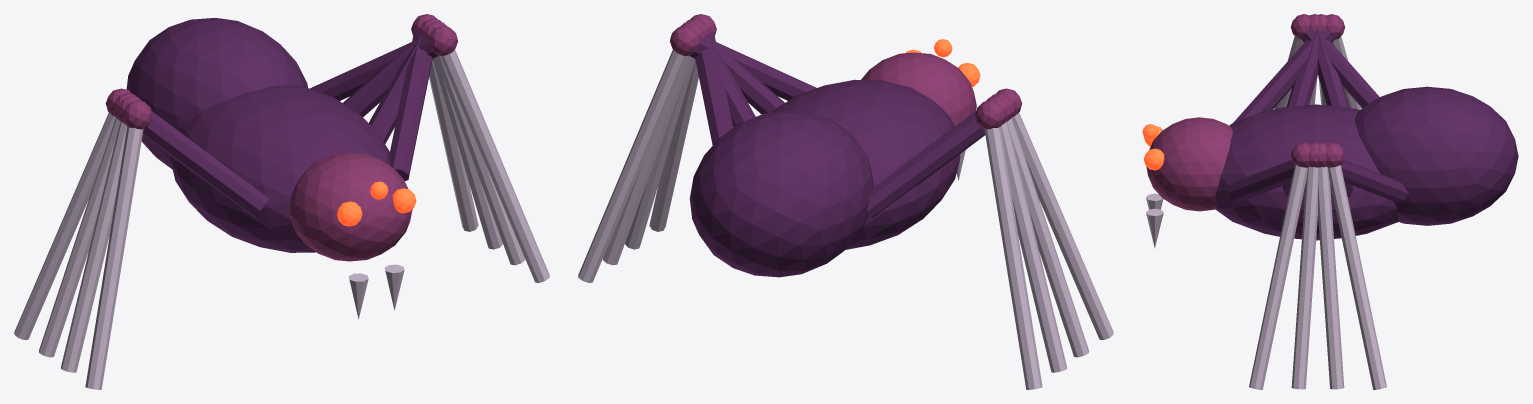
File: crawler.glb
3 renders of one model, left to right at view 1: azimuth 30°, elevation 25°; view 2: azimuth 150°, elevation 25°; view 3: azimuth 270°, elevation 25°, orthographic. The views are drawn at different scales.
Parts seen in each view (by area): view 1: leg2, body, abd, leg, head, knee, eye, fang; view 2: leg2, abd, body, leg, head, knee, eye; view 3: abd, leg2, body, leg, head, knee, eye, fang.
Part boxes in pixels (x1,y1,x2,y2): leg2: (14,49,549,389); body: (170,85,390,252); abd: (126,18,307,169); leg: (142,31,438,217); head: (289,153,412,261); knee: (105,14,457,129); eye: (337,181,416,226); fang: (348,264,404,319); leg2: (578,49,1113,389); abd: (689,110,873,277); body: (770,79,960,249); leg: (689,31,985,217); head: (861,52,976,126); knee: (670,14,1022,129); eye: (906,39,980,86); abd: (1355,86,1518,225); leg2: (1249,36,1386,389); body: (1214,104,1398,240); leg: (1227,29,1408,202); head: (1146,117,1232,211); knee: (1290,14,1345,167); eye: (1142,124,1164,170); fang: (1146,193,1163,248).
Size of the model in its own units: 1.03 by 0.5354 by 0.842.
